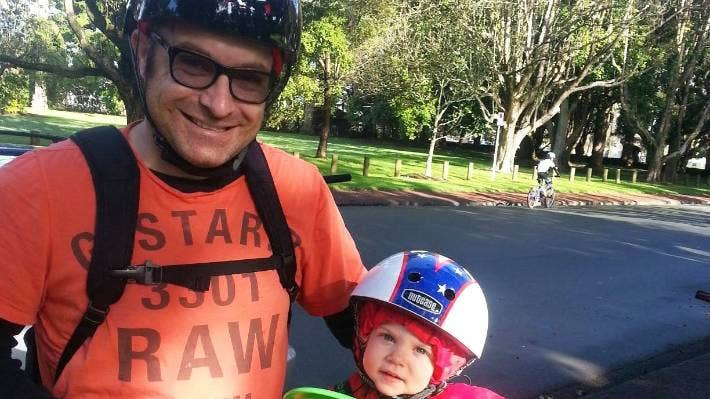helmet: (125, 1, 303, 169), (349, 249, 488, 396)
